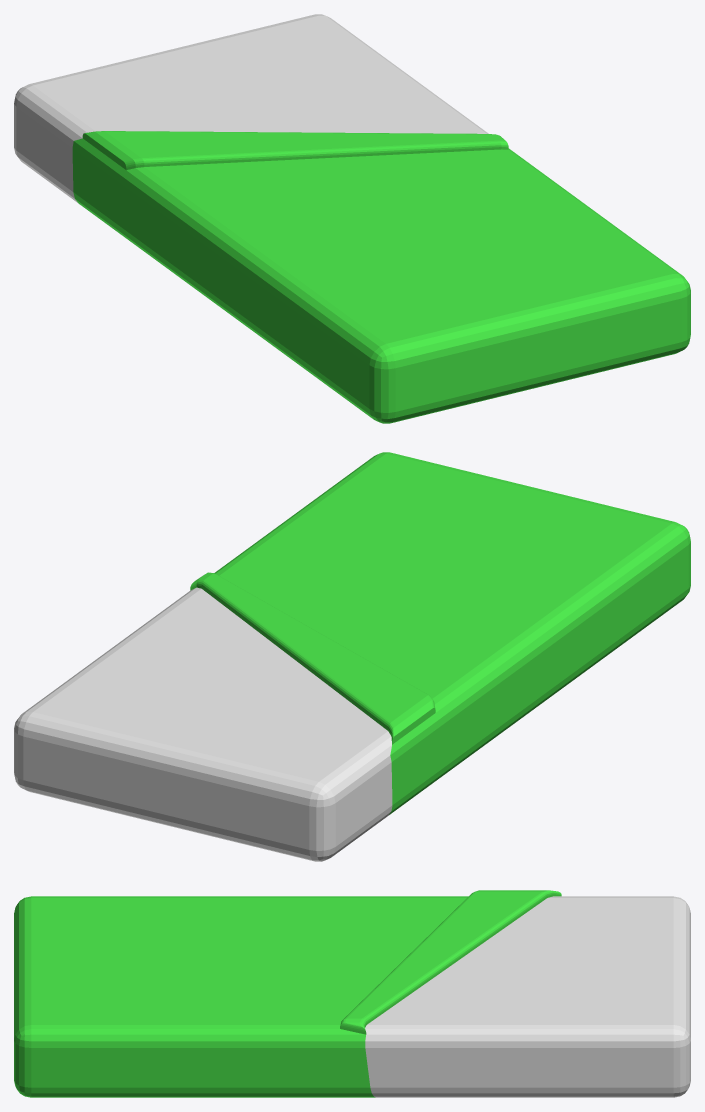
File: colchao.fbx
3 views of the same model, one above another, from view 1: azimuth 30°, elevation 25°; view 2: azimuth 150°, elevation 25°; view 3: azimuth 270°, elevation 25° (orthographic). The views are drawn at different scales.
Visible parts, largest first — view 1: Cube; view 2: Cube; view 3: Cube.
Part boxes in pixels (x1,y1,x2,y2): Cube: (14,14,690,423); Cube: (14,452,690,861); Cube: (14,890,690,1097).
Bounding box in the file's own units: 0.98 × 0.25 × 1.98.
